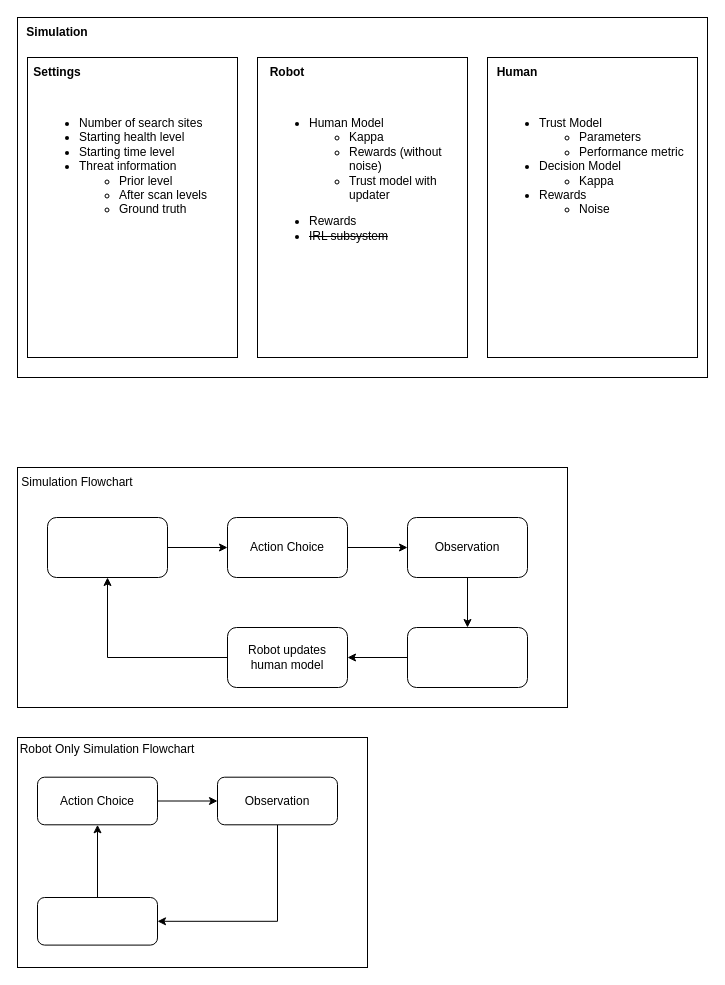
The diagram is 725 pixels wide and 985 high, and some of its shapes have lost their labels. The box of each missing label's shape, as (x1, y1, x2, y2) in pixels:
Human Update Reports trust: (406, 626, 528, 688)
Recommendation: (46, 516, 168, 578)
Robot Update: (36, 896, 158, 945)
